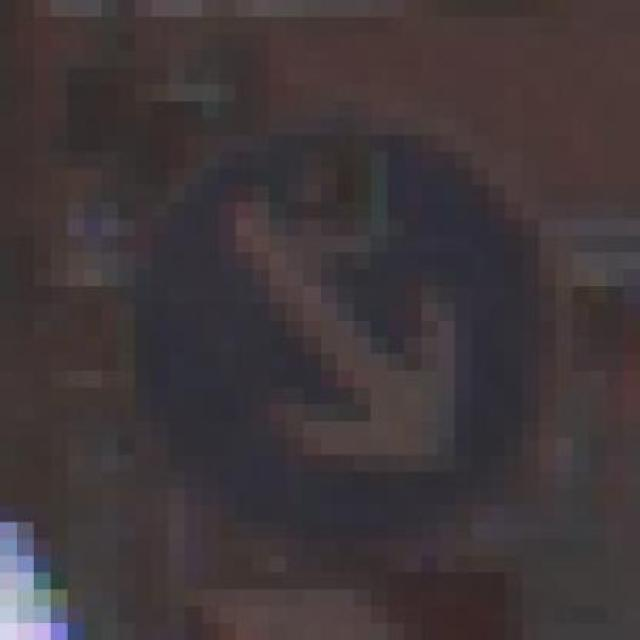Keep-Right: (50, 101, 573, 539)
